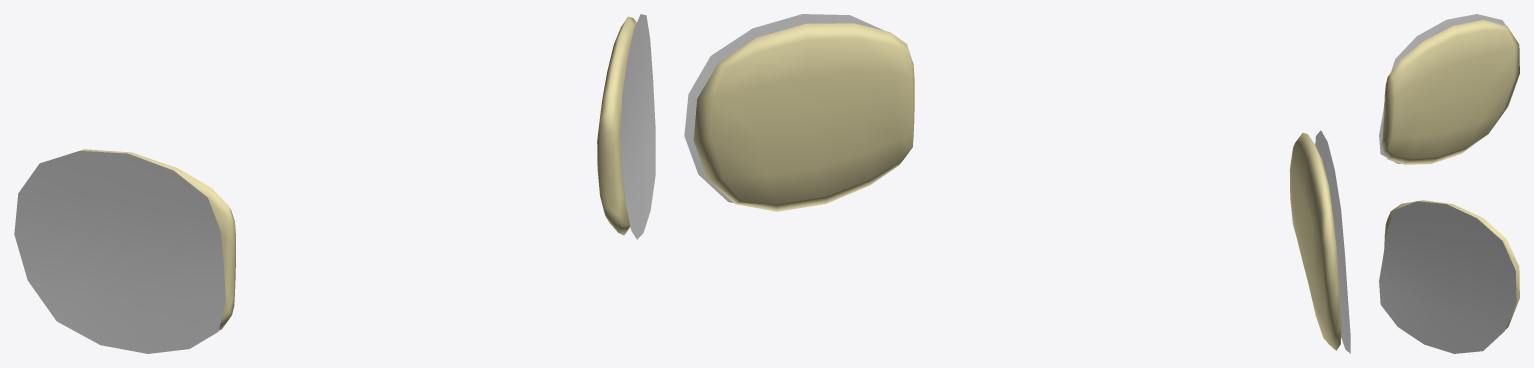
Rendered from ears-3.fbx.
3 renders of one model, left to right at view 1: azimuth 30°, elevation 25°; view 2: azimuth 150°, elevation 25°; view 3: azimuth 270°, elevation 25°, orthographic. The views are drawn at different scales.
Parts seen in each view (by area): view 1: Cube; view 2: Cube; view 3: Cube.
Boxes of the visible parts, bbox=[...] form: Cube: bbox=[14, 14, 655, 353]; Cube: bbox=[684, 14, 1350, 353]; Cube: bbox=[1379, 14, 1519, 353].
Size of the model in its own units: 77.1 by 22 by 19.74.
